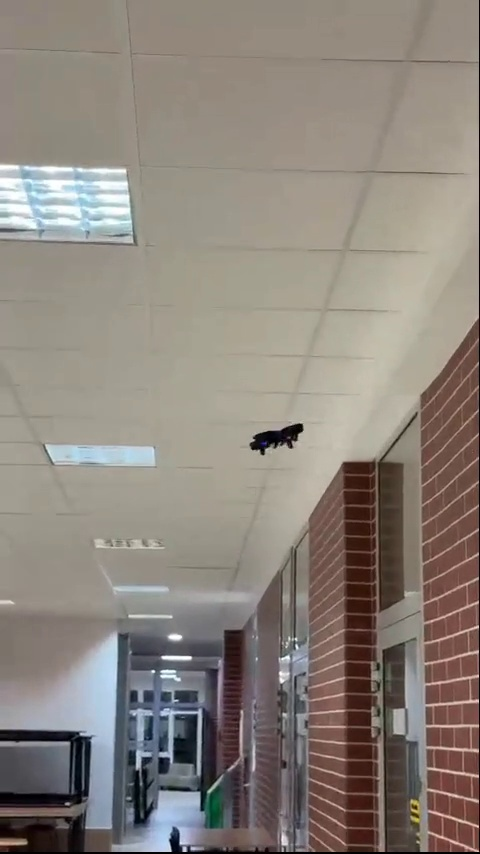drone: (249, 419, 309, 457)
